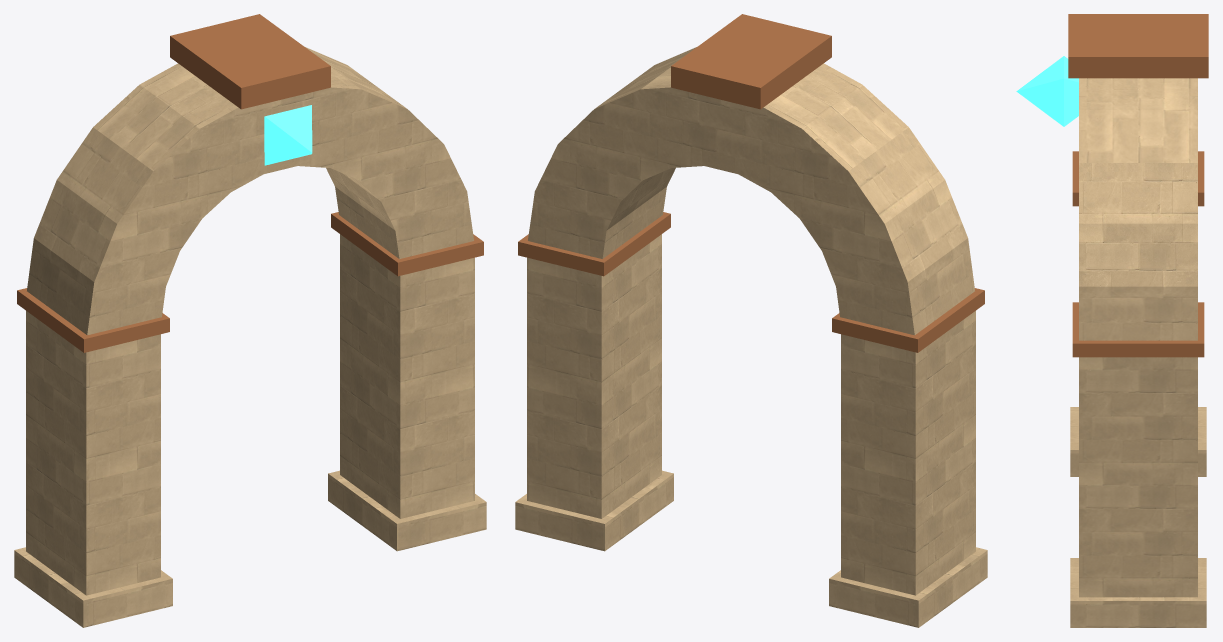
The model's file is region_gate.glb.
The picture shows the model from 3 angles, left to right: view 1: azimuth 30°, elevation 25°; view 2: azimuth 150°, elevation 25°; view 3: azimuth 270°, elevation 25°; orthographic projection.
Visible parts, largest first — view 1: Gate_Stone, Gate_Trim, Gate_Keystone; view 2: Gate_Stone, Gate_Trim; view 3: Gate_Stone, Gate_Trim, Gate_Keystone.
Part boxes in pixels (x1=…): Gate_Stone: x1=14, y1=47, x2=486, y2=627; Gate_Trim: x1=17, y1=14, x2=483, y2=352; Gate_Keystone: x1=264, y1=105, x2=312, y2=165; Gate_Stone: x1=515, y1=47, x2=987, y2=627; Gate_Trim: x1=518, y1=14, x2=984, y2=352; Gate_Stone: x1=1070, y1=78, x2=1206, y2=627; Gate_Trim: x1=1068, y1=14, x2=1208, y2=357; Gate_Keystone: x1=1016, y1=56, x2=1078, y2=126.
Bounding box in the file's own units: 10.8 × 12.85 × 4.52.
3 materials, 1 textured.
